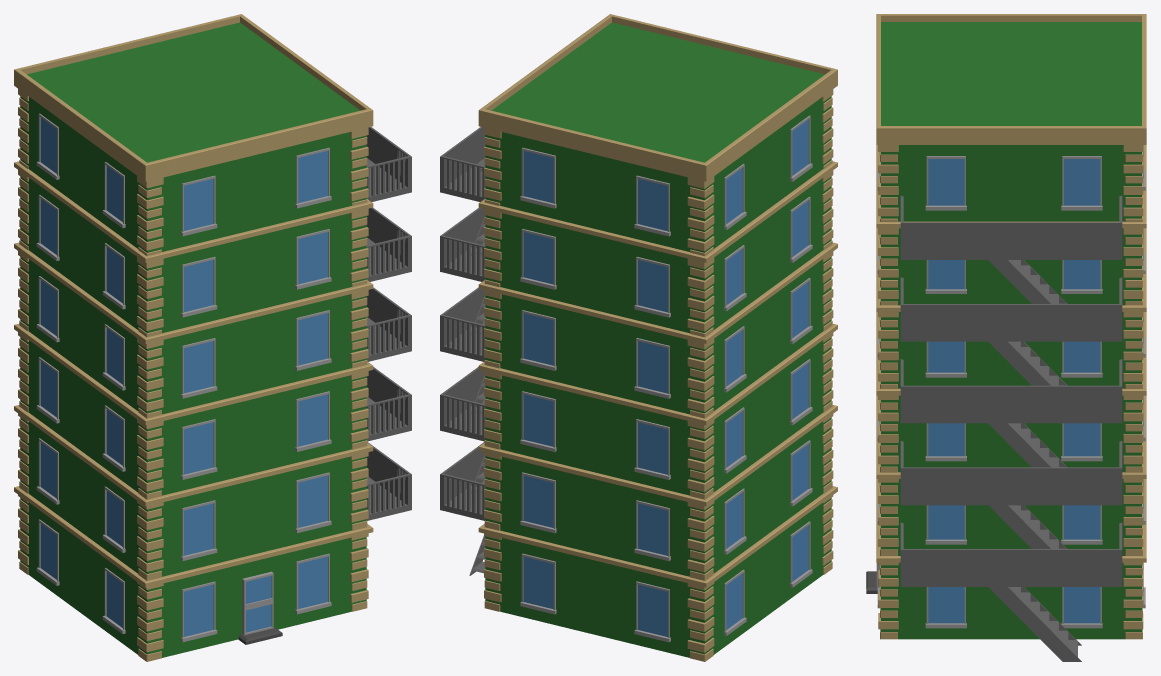
Rendered from GebouwGroen.fbx.
3 renders of one model, left to right at view 1: azimuth 30°, elevation 25°; view 2: azimuth 150°, elevation 25°; view 3: azimuth 270°, elevation 25°, orthographic. The views are drawn at different scales.
Visible parts, largest first — view 1: gebouwGroen; view 2: gebouwGroen; view 3: gebouwGroen.
Boxes of the visible parts, bbox=[...] form: gebouwGroen: bbox=[14, 14, 411, 661]; gebouwGroen: bbox=[440, 14, 837, 661]; gebouwGroen: bbox=[866, 14, 1146, 661].
Bounding box in the file's own units: 761 × 1304 × 645.
